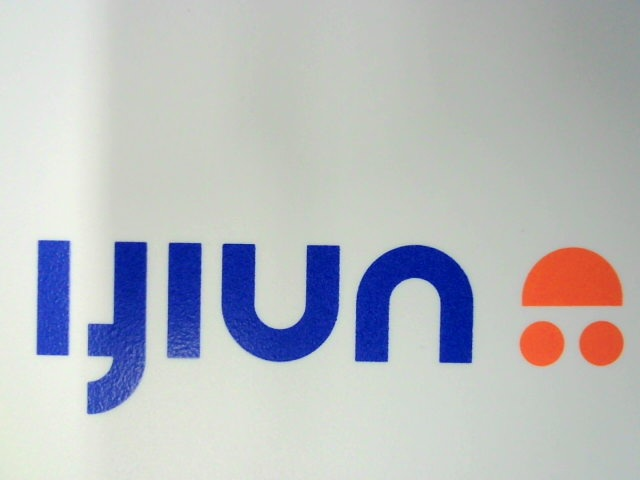BN_unifi: (20, 233, 625, 418)
